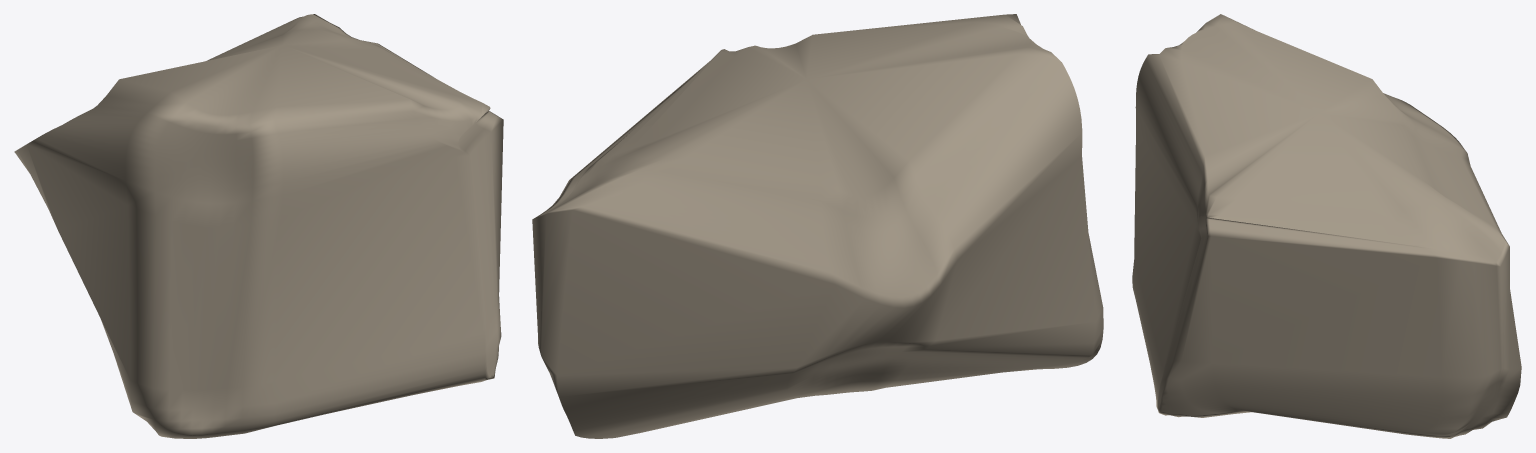
File: landscape.rock.gritstone_06.glb
The picture shows the model from 3 angles, left to right: view 1: azimuth 30°, elevation 25°; view 2: azimuth 150°, elevation 25°; view 3: azimuth 270°, elevation 25°; orthographic projection. The views are drawn at different scales.
Parts seen in each view (by area): view 1: main__stone_a98; view 2: main__stone_a98; view 3: main__stone_a98.
Boxes of the visible parts, x1=… form: main__stone_a98: x1=14, y1=14, x2=503, y2=438; main__stone_a98: x1=532, y1=14, x2=1103, y2=438; main__stone_a98: x1=1132, y1=14, x2=1521, y2=438.
Size of the model in its own units: 0.7313 by 0.6151 by 0.7501.
